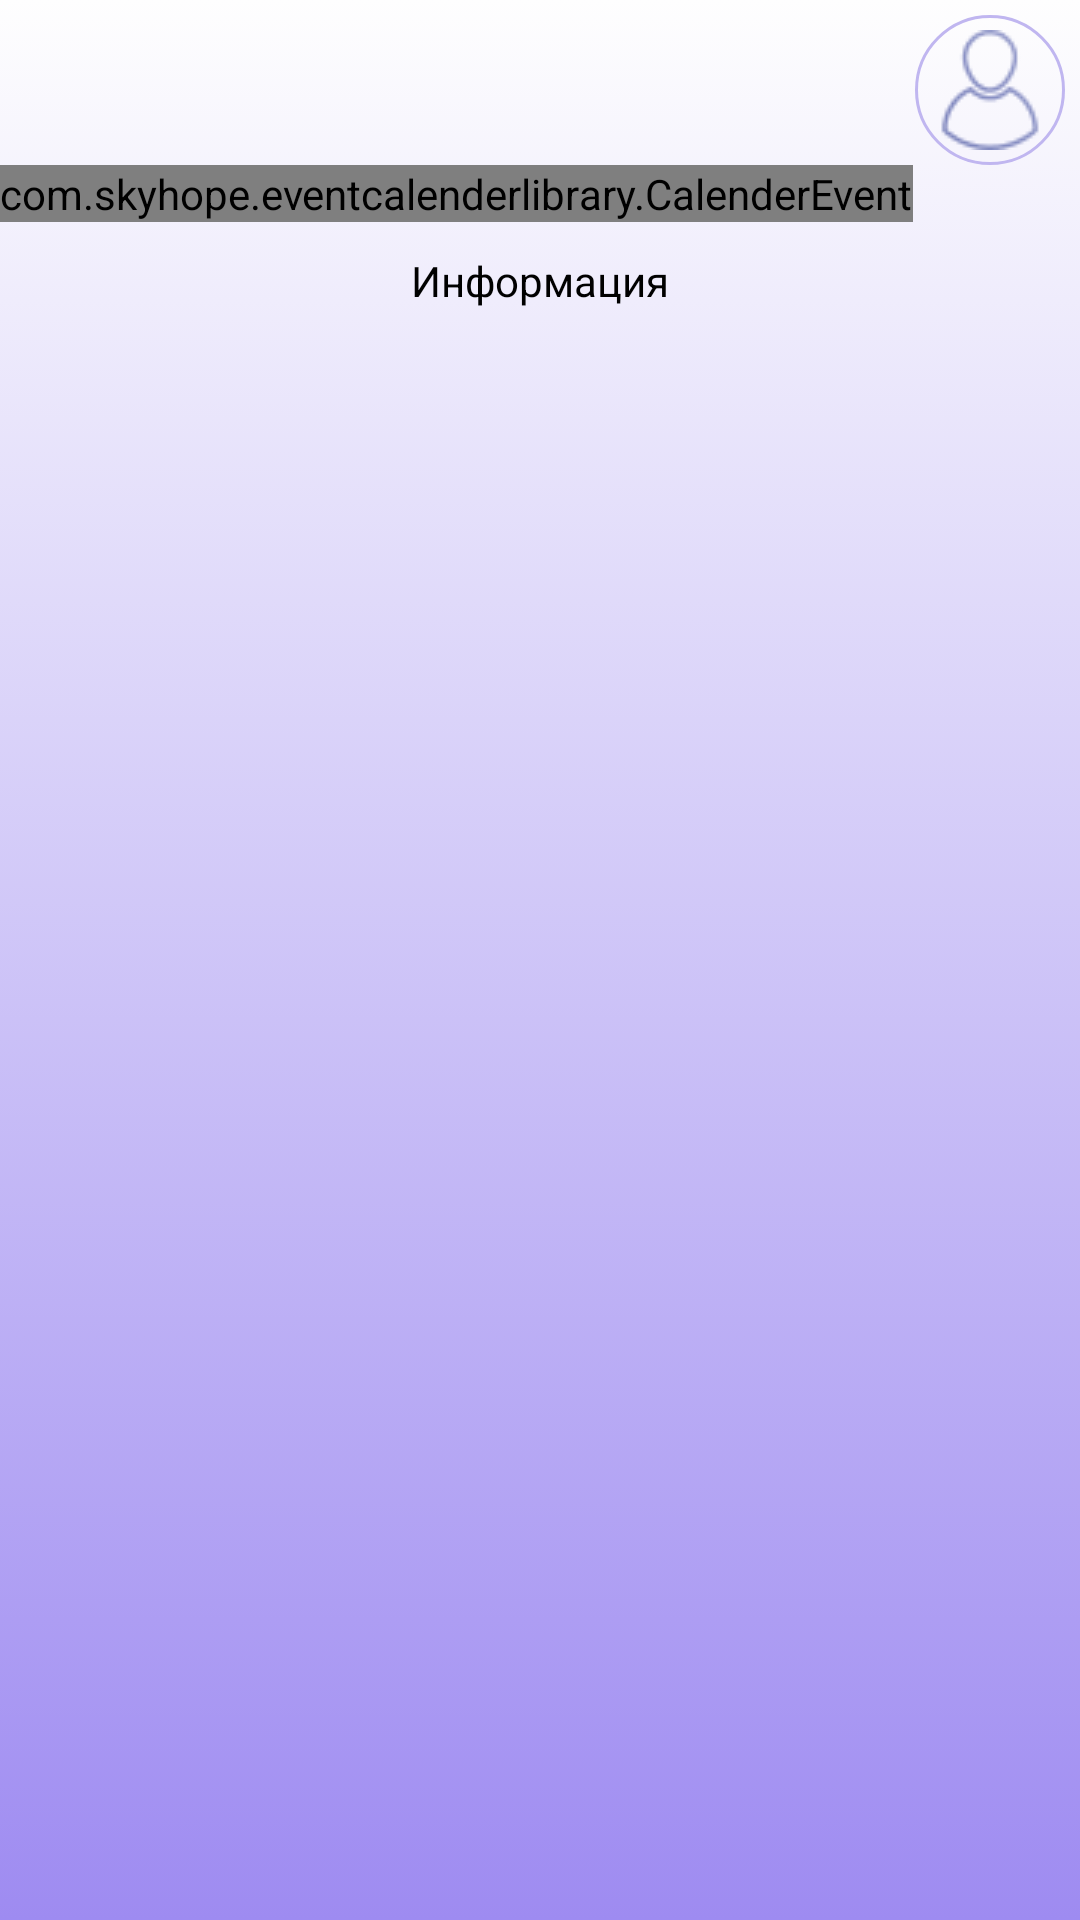

Icon bounding boxes for this 1080 x 1920 phone screenshot, format (x1, y1, x2, y2):
Пользователь: (915, 15, 1065, 165)
